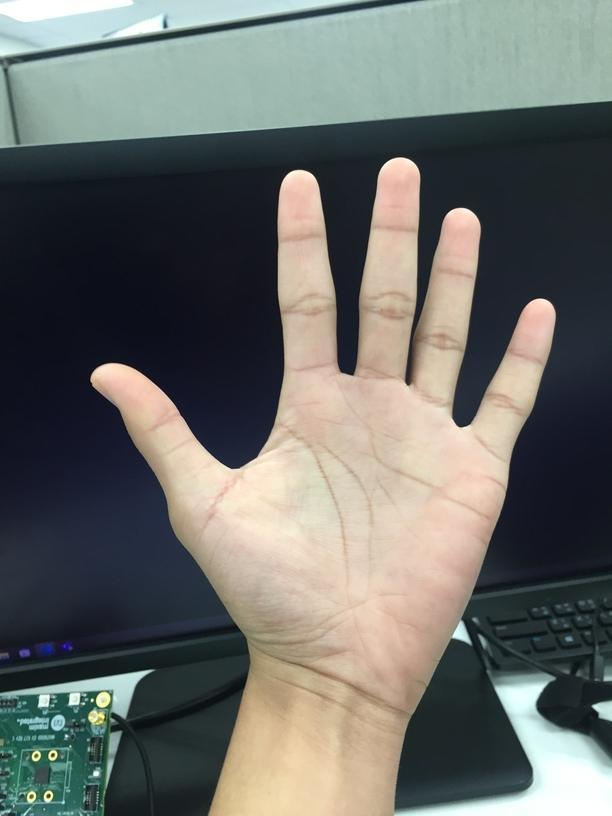hand: (89, 156, 556, 722)
